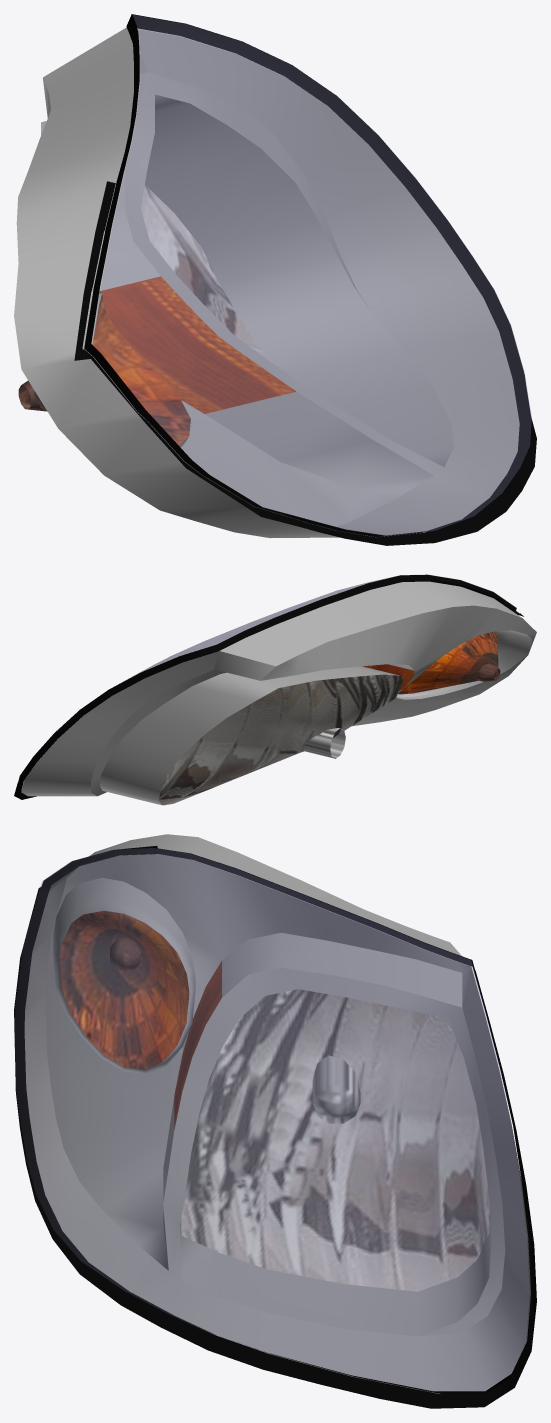
3 renders of one model, top to bottom at view 1: azimuth 30°, elevation 25°; view 2: azimuth 150°, elevation 25°; view 3: azimuth 270°, elevation 25°, orthographic. The views are drawn at different scales.
Visible parts, largest first — view 1: U236_17_061B_R_U236_17_061B_R_2_N, U236_17_061B_R_U236_17_061B_R_1_DTaSI, U236_17_061B_R_U236_17_061B_R_3_N, U236_17_061B_R_4_D_U236_17_061B_R; view 2: U236_17_061B_R_U236_17_061B_R_2_N, U236_17_061B_R_U236_17_061B_R_3_N, U236_17_061B_R_4_D_U236_17_061B_R, U236_17_061B_R_U236_17_061B_R_1_DTaSI; view 3: U236_17_061B_R_U236_17_061B_R_1_DTaSI, U236_17_061B_R_U236_17_061B_R_2_N, U236_17_061B_R_U236_17_061B_R_3_N, U236_17_061B_R_4_D_U236_17_061B_R.
Boxes of the visible parts, x1,y1,x2,y2 form: U236_17_061B_R_U236_17_061B_R_2_N: (14,27,519,538); U236_17_061B_R_U236_17_061B_R_1_DTaSI: (92,15,531,535); U236_17_061B_R_U236_17_061B_R_3_N: (18,185,295,445); U236_17_061B_R_4_D_U236_17_061B_R: (74,14,536,545); U236_17_061B_R_U236_17_061B_R_2_N: (21,581,536,805); U236_17_061B_R_U236_17_061B_R_3_N: (159,632,500,805); U236_17_061B_R_4_D_U236_17_061B_R: (14,574,523,799); U236_17_061B_R_U236_17_061B_R_1_DTaSI: (116,576,516,685); U236_17_061B_R_U236_17_061B_R_1_DTaSI: (14,848,529,1390); U236_17_061B_R_U236_17_061B_R_2_N: (24,834,530,1393); U236_17_061B_R_U236_17_061B_R_3_N: (60,910,490,1291); U236_17_061B_R_4_D_U236_17_061B_R: (14,846,536,1408).
Size of the model in its own units: 40.97 by 23.58 by 31.95.
